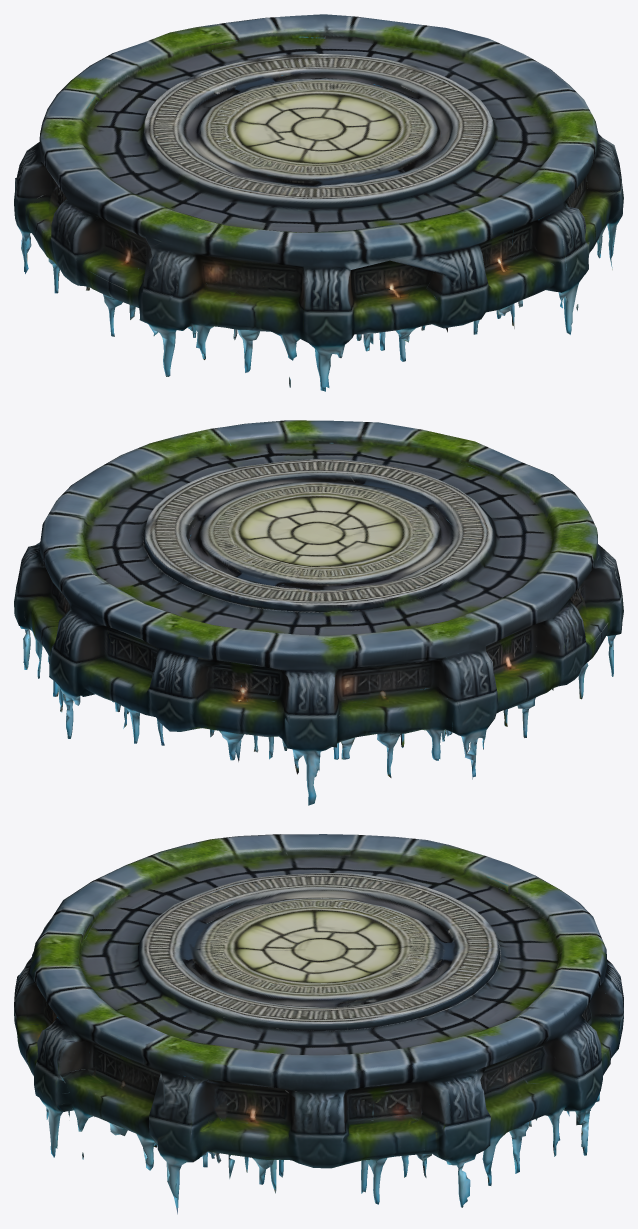
The model's file is Mystic_Platform_with_texture.fbx.
3 views of the same model, one above another, from view 1: azimuth 30°, elevation 25°; view 2: azimuth 150°, elevation 25°; view 3: azimuth 270°, elevation 25° (orthographic). The views are drawn at different scales.
Visible parts, largest first — view 1: Mesh0; view 2: Mesh0; view 3: Mesh0.
Boxes of the visible parts, x1,y1,x2,y2 form: Mesh0: (14,14,623,391); Mesh0: (14,420,623,805); Mesh0: (14,834,623,1214).
Size of the model in its own units: 191 by 53.48 by 190.
1 material, 1 textured.
